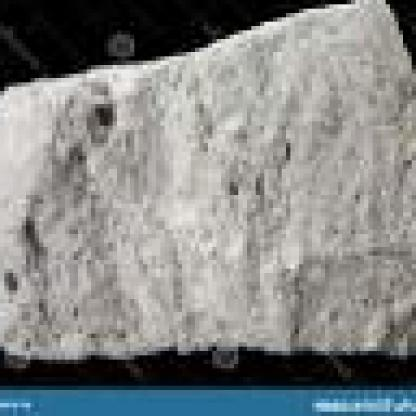Sedimentary_Chalk: (4, 0, 415, 370)
